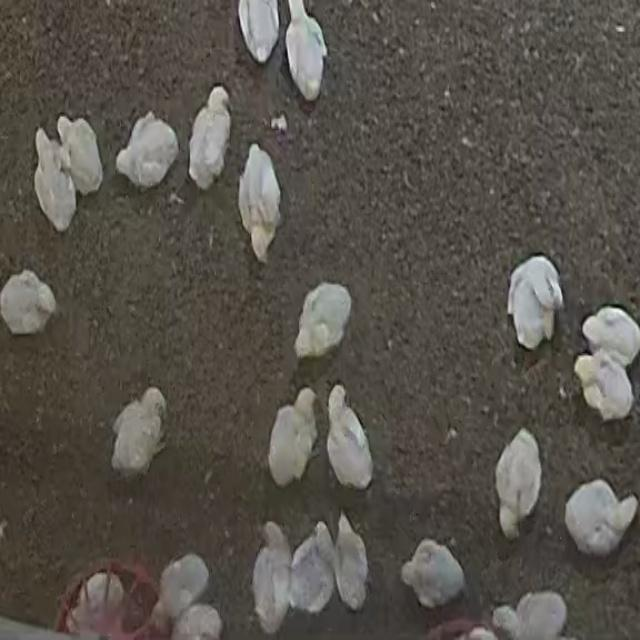chicken: (564, 479, 638, 555), (507, 257, 564, 351), (237, 144, 282, 263), (267, 388, 320, 488), (494, 428, 542, 538), (326, 385, 373, 493), (115, 112, 179, 190), (111, 387, 166, 475), (252, 522, 294, 634), (188, 85, 233, 189), (151, 551, 210, 630), (32, 128, 77, 231), (288, 520, 336, 616), (401, 537, 465, 609), (283, 0, 327, 101), (296, 283, 352, 361), (574, 352, 635, 422), (66, 569, 129, 635), (493, 590, 576, 640), (56, 115, 104, 195), (332, 510, 370, 610), (0, 270, 56, 336), (581, 306, 640, 368), (237, 0, 281, 65)
